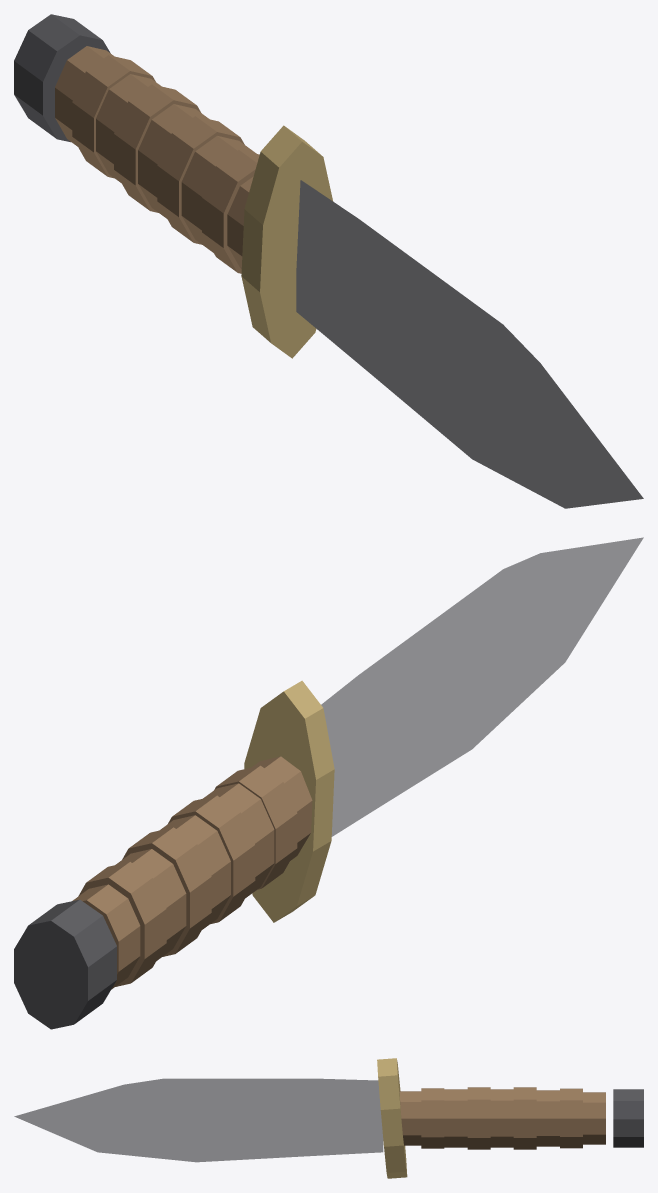
Rendered from sog_bowie.glb.
The picture shows the model from 3 angles, top to bottom: view 1: azimuth 30°, elevation 25°; view 2: azimuth 150°, elevation 25°; view 3: azimuth 270°, elevation 25°; orthographic projection. The views are drawn at different scales.
Visible parts, largest first — view 1: sog_bowie; view 2: sog_bowie; view 3: sog_bowie.
Part boxes in pixels (left/top/right/bottom): sog_bowie: left=14, top=14, right=643, bottom=508; sog_bowie: left=14, top=537, right=643, bottom=1029; sog_bowie: left=14, top=1058, right=643, bottom=1178.
Size of the model in its own units: 0.0212 by 0.0605 by 0.2865.
